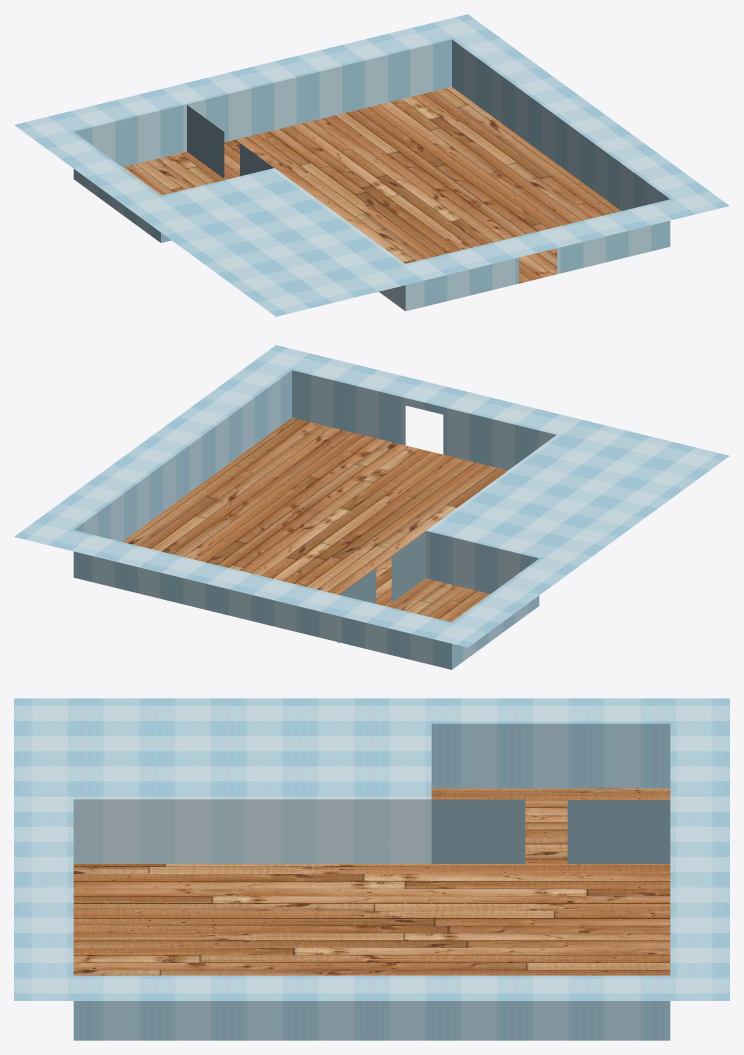
Rendered from level1_map_new.FBX.
3 renders of one model, top to bottom at view 1: azimuth 30°, elevation 25°; view 2: azimuth 150°, elevation 25°; view 3: azimuth 270°, elevation 25°, orthographic. The views are drawn at different scales.
Visible parts, largest first — view 1: Plane001, Box002, Box001; view 2: Plane001, Box001, Box002; view 3: Plane001, Box002, Box001.
Boxes of the visible parts, x1=… form: Plane001: x1=14, y1=14, x2=729, y2=316; Box002: x1=187, y1=105, x2=224, y2=178; Box001: x1=240, y1=143, x2=273, y2=176; Plane001: x1=14, y1=345, x2=729, y2=669; Box001: x1=391, y1=531, x2=425, y2=602; Box002: x1=338, y1=568, x2=376, y2=642; Plane001: x1=14, y1=698, x2=729, y2=1040; Box002: x1=567, y1=800, x2=670, y2=863; Box001: x1=431, y1=799, x2=525, y2=863.
Bounding box in the file's own units: 50 × 5.06 × 50.
3 materials, 2 textured.
